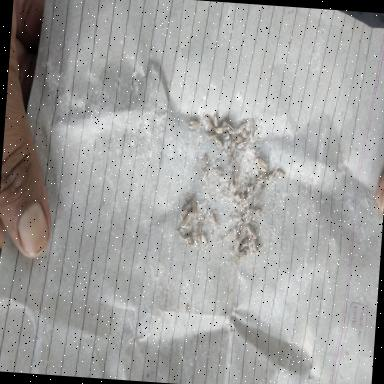pbw: (264, 166, 278, 184), (237, 235, 250, 254), (256, 182, 266, 204), (198, 230, 208, 250), (245, 224, 257, 240), (213, 134, 225, 150), (208, 211, 218, 230), (249, 237, 260, 254), (190, 196, 198, 219), (182, 209, 192, 227), (252, 205, 264, 219), (204, 117, 216, 131), (180, 200, 192, 213), (236, 122, 248, 134), (242, 184, 252, 198), (240, 128, 250, 141), (203, 208, 211, 224), (183, 232, 194, 243), (236, 138, 246, 150), (188, 120, 200, 130), (228, 150, 235, 166), (236, 250, 246, 261), (194, 223, 200, 241), (276, 168, 286, 178), (206, 131, 218, 139), (212, 115, 219, 128), (234, 162, 239, 180), (215, 168, 225, 174), (215, 127, 223, 134), (236, 135, 243, 143)
